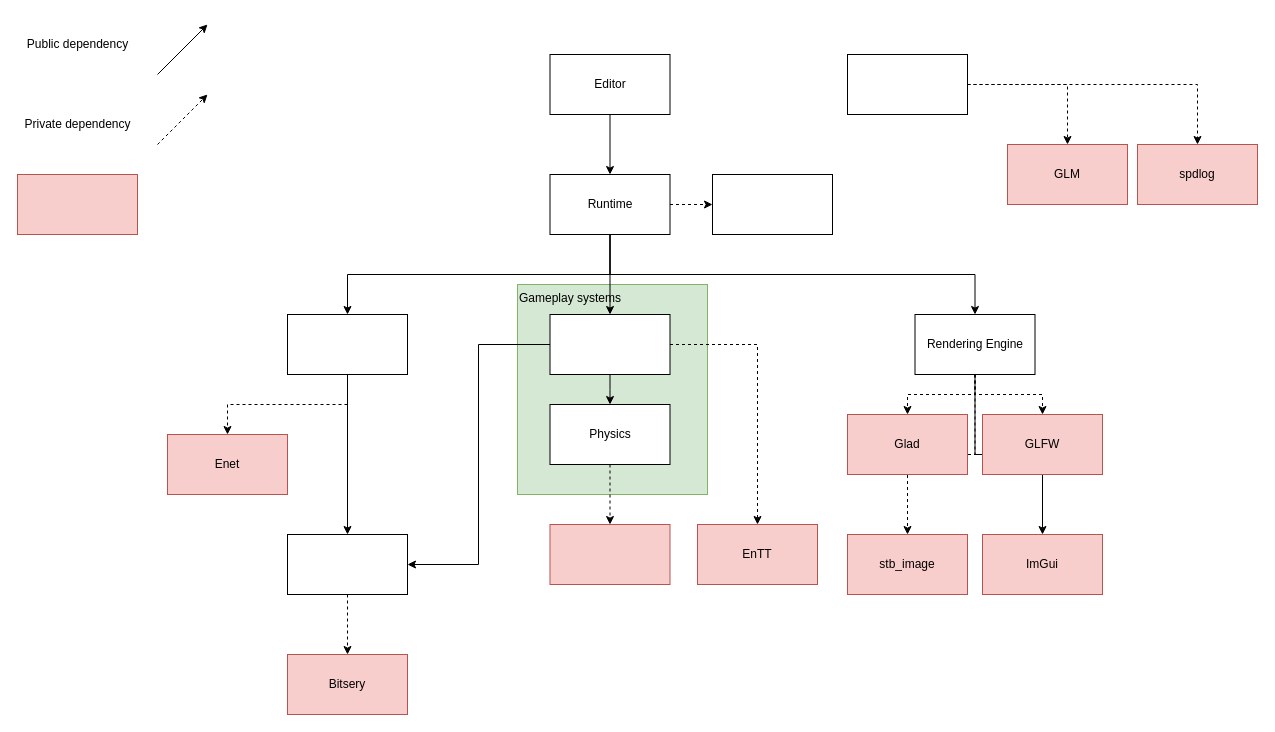
Image size: 1275x732. Some labels were removed from this diagram. The shapes that lost their labels are listed below. From the top down, each one's centre as x and y in pixels, then its label:
At (907,84): "Core".
At (77,204): "External dependency".
At (772,204): "Event Handler".
At (347,344): "Networking".
At (609,344): "World/Scene".
At (347,564): "Serialize".
At (609,554): "PhysX".
